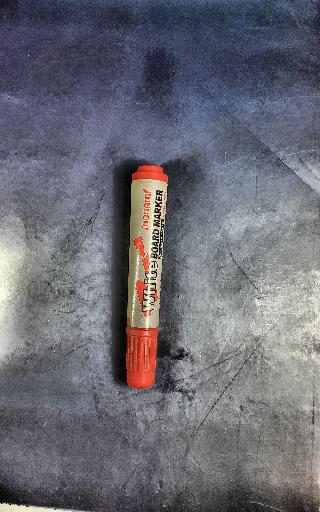marcador rojo: (126, 165, 168, 388)
